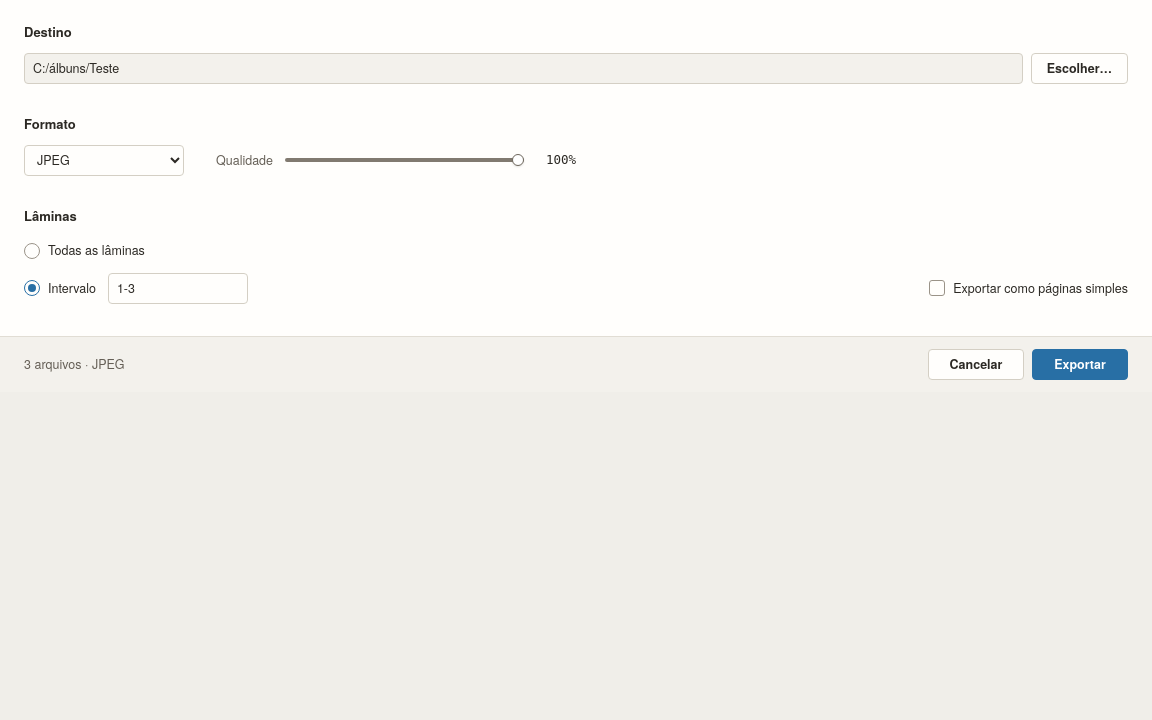
rejects an invalid interval 0
Replace the text in the field named "Lâminas do intervalo" with "0". click: (178, 288)
box: [108,273,248,304]
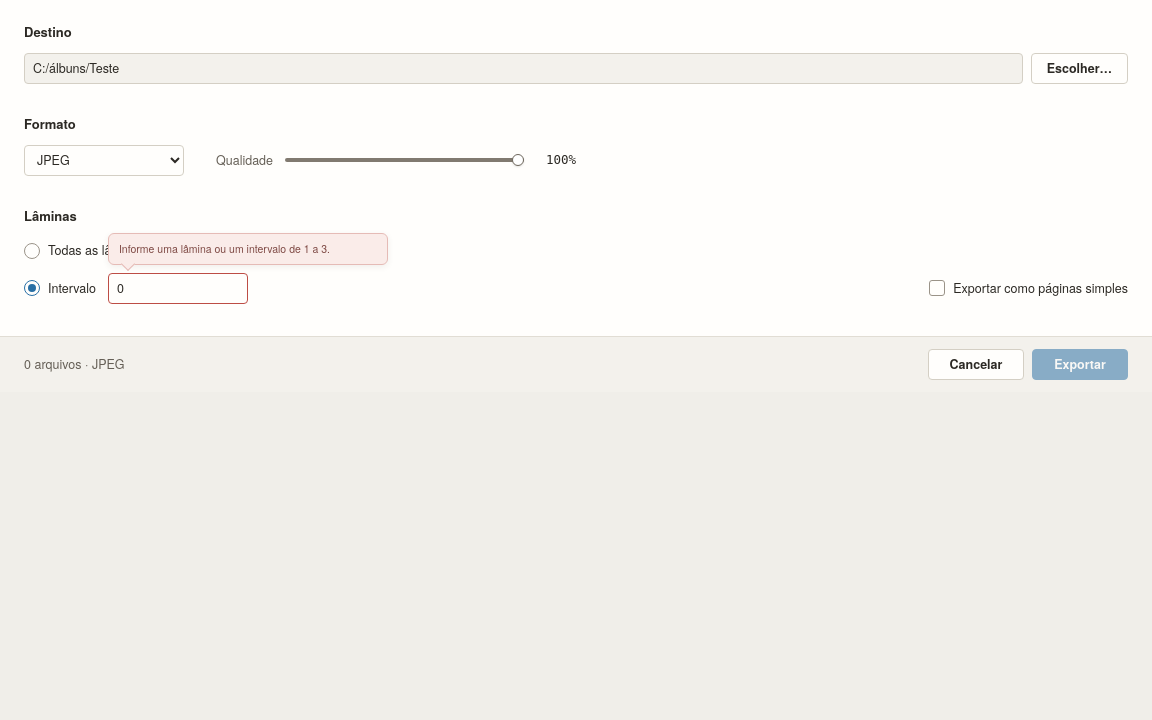
Check: the button "Exportar" is disabled, box [1032,349,1128,380]
